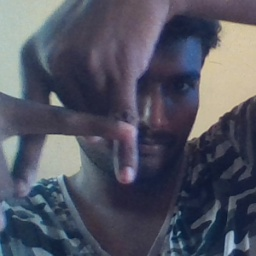H: (6, 56, 153, 198)
